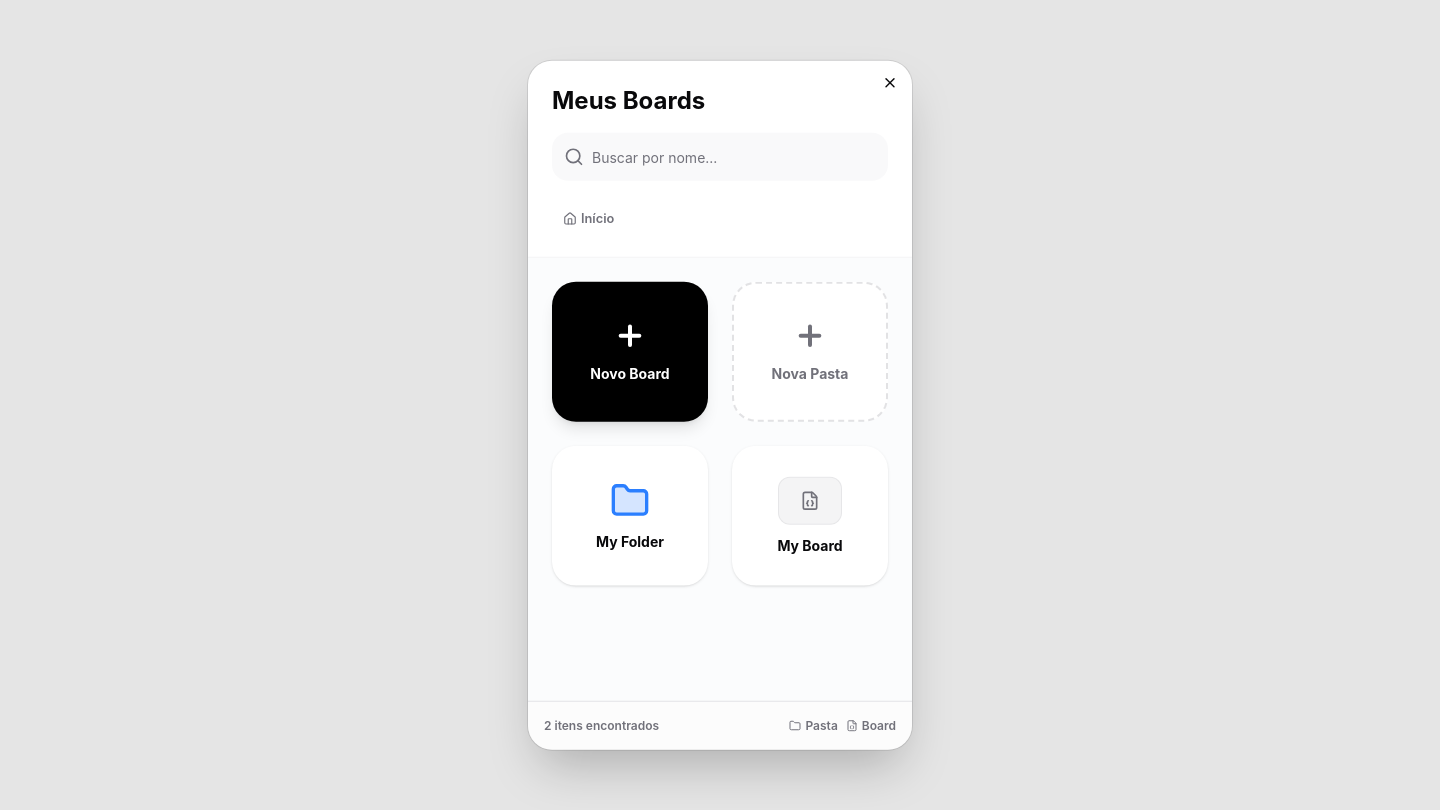
Scenario: FileExplorer Component › filters items based on search input
Expected: the text "My Folder" is shown, [596, 533, 664, 550]
Type "Folder" into the field with placeholder "Buscar por nome..." at (720, 157), box [552, 133, 888, 181]
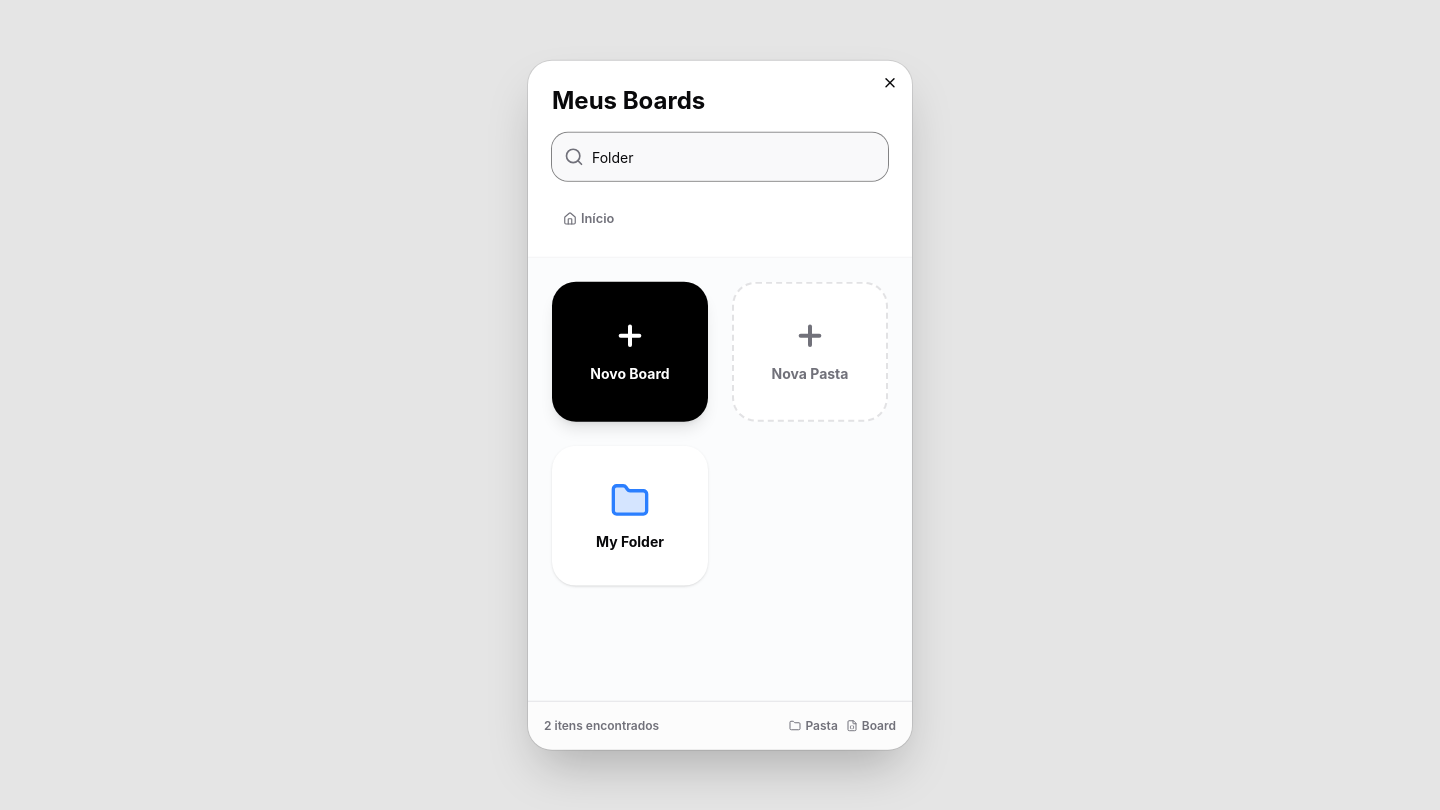
Expected: the text "My Folder" is shown, [596, 533, 664, 550]
Expected: the text "My Board" is gone
